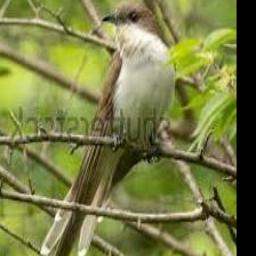Cuckoo: (39, 0, 174, 256)
